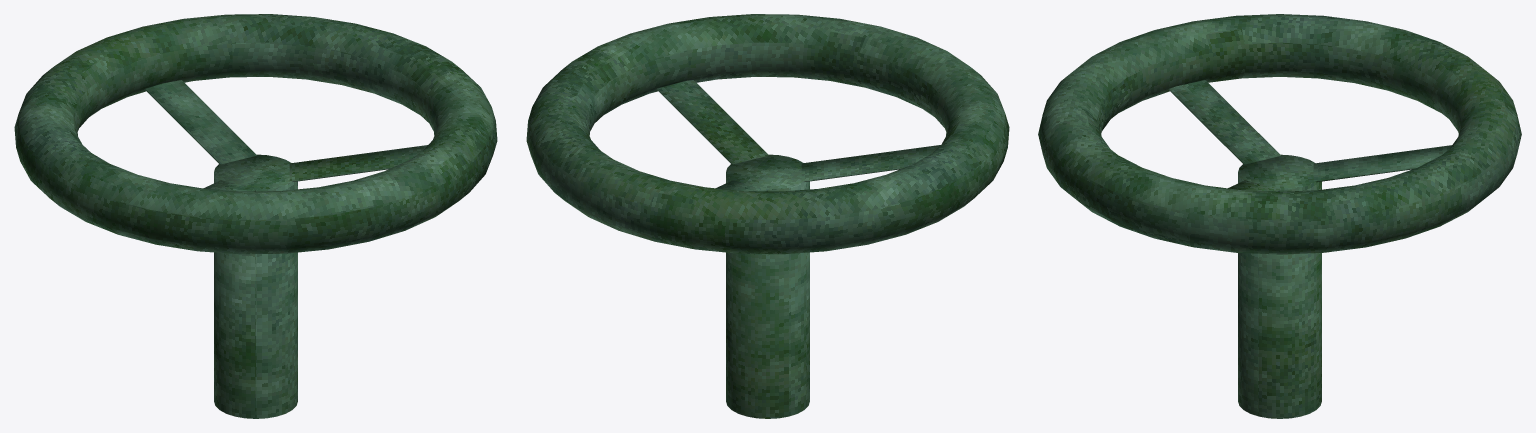
File: valve.glb
The picture shows the model from 3 angles, left to right: view 1: azimuth 30°, elevation 25°; view 2: azimuth 150°, elevation 25°; view 3: azimuth 270°, elevation 25°; orthographic projection.
Parts seen in each view (by area): view 1: valve; view 2: valve; view 3: valve.
Part boxes in pixels (left/top/right/bottom): valve: left=14, top=14, right=497, bottom=418; valve: left=526, top=14, right=1009, bottom=418; valve: left=1038, top=14, right=1521, bottom=418.
Size of the model in its own units: 2.3 by 1.55 by 2.3.
Materials: 1 (1 with a texture image).
